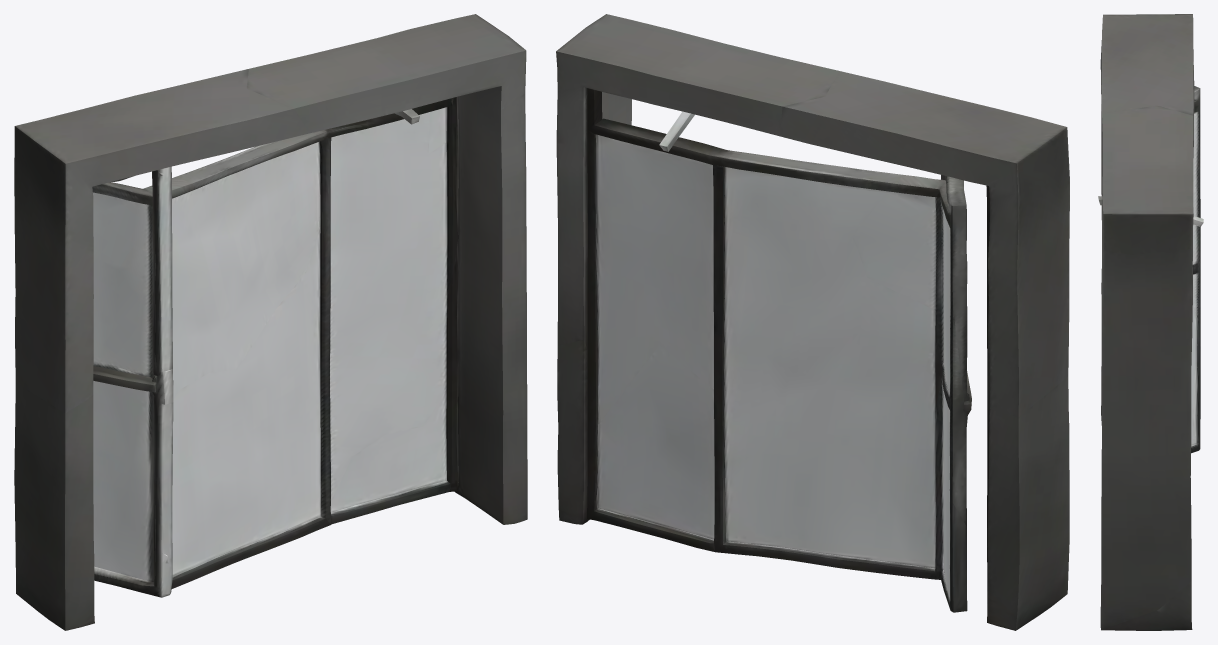
Rendered from m2ColorGateV2.glb.
3 renders of one model, left to right at view 1: azimuth 30°, elevation 25°; view 2: azimuth 150°, elevation 25°; view 3: azimuth 270°, elevation 25°, orthographic. The views are drawn at different scales.
Parts seen in each view (by area): view 1: model; view 2: model; view 3: model.
Part boxes in pixels (left/top/right/bottom): model: left=14, top=14, right=527, bottom=630; model: left=556, top=14, right=1069, bottom=630; model: left=1098, top=14, right=1203, bottom=630.
Bounding box in the file's own units: 1.89 × 1.84 × 0.4198.
1 material, 1 textured.
